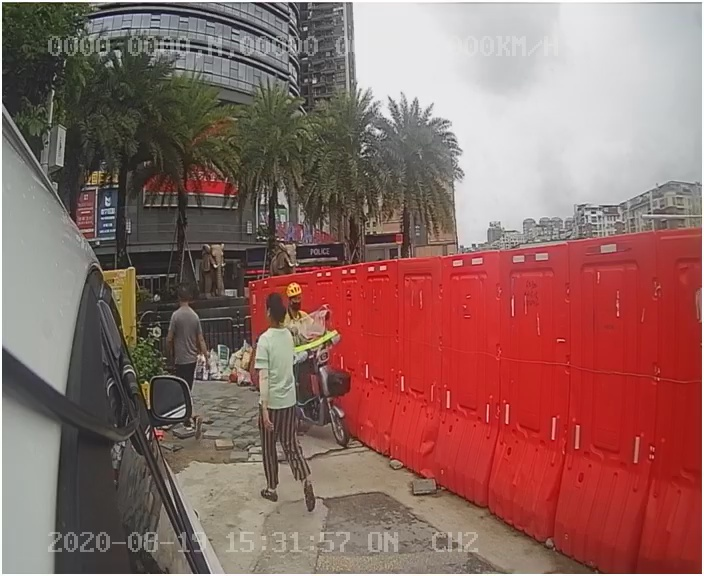person: (241, 290, 326, 515)
